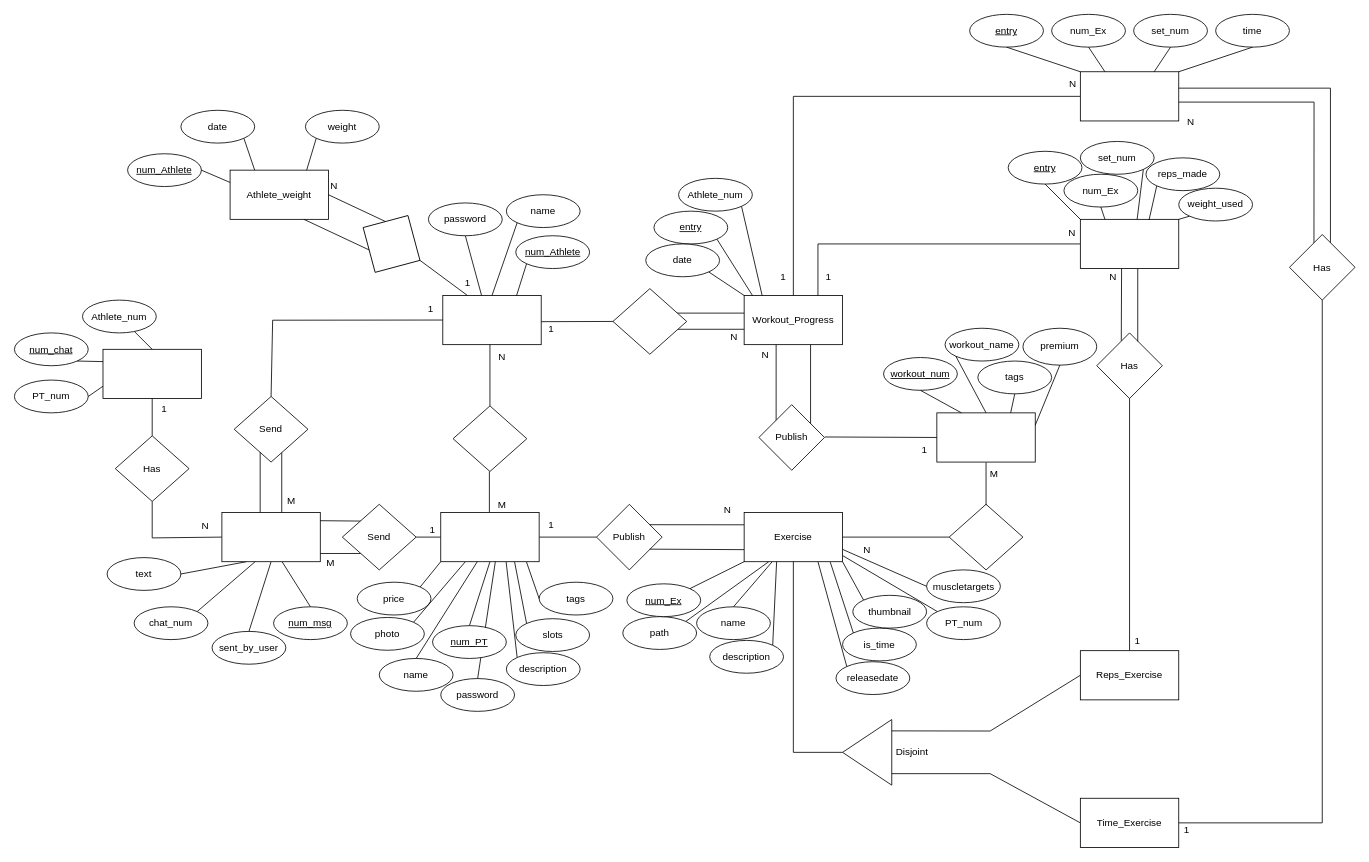
Image size: 1369x862. Some labels were removed from this diagram. The box of each missing label's shape, as (x1, y1, x2, y2) in pixels:
Athlete: (442, 295, 541, 345)
Chat: (102, 348, 201, 399)
Contains: (948, 503, 1023, 570)
Edits: (346, 198, 436, 289)
IS-A: (842, 719, 892, 785)
Message: (221, 512, 320, 562)
Personal_trainer: (440, 512, 539, 562)
Register: (612, 288, 687, 354)
Reps_Progress: (1080, 219, 1179, 269)
Subscribes to: (452, 405, 527, 472)
Time_Progress: (1080, 71, 1179, 121)
Workout: (936, 412, 1035, 462)
